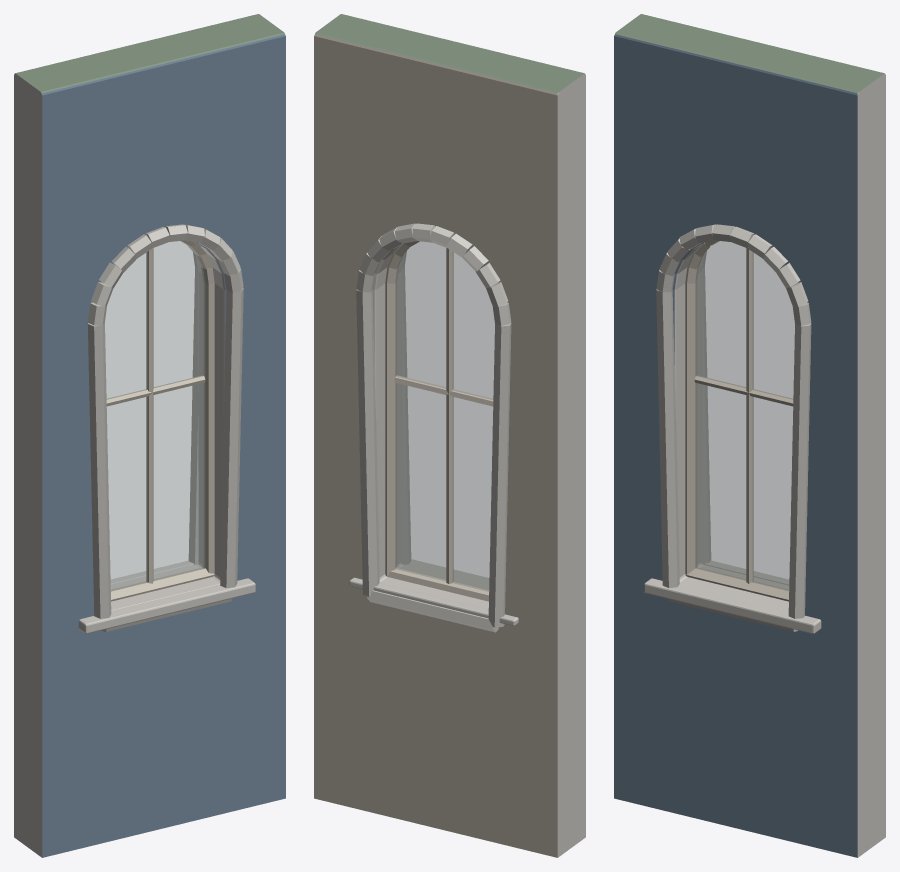
The model's file is SM_Kit_Wall_Window_Arched.glb.
3 renders of one model, left to right at view 1: azimuth 30°, elevation 25°; view 2: azimuth 150°, elevation 25°; view 3: azimuth 330°, elevation 25°, orthographic.
Visible parts, largest first — view 1: SM_Kit_Wall_Window_Arched; view 2: SM_Kit_Wall_Window_Arched; view 3: SM_Kit_Wall_Window_Arched.
Boxes of the visible parts, x1=… form: SM_Kit_Wall_Window_Arched: x1=14, y1=14, x2=285, y2=857; SM_Kit_Wall_Window_Arched: x1=314, y1=14, x2=585, y2=857; SM_Kit_Wall_Window_Arched: x1=614, y1=14, x2=885, y2=857.
Size of the model in its own units: 1 by 3 by 0.2932.
